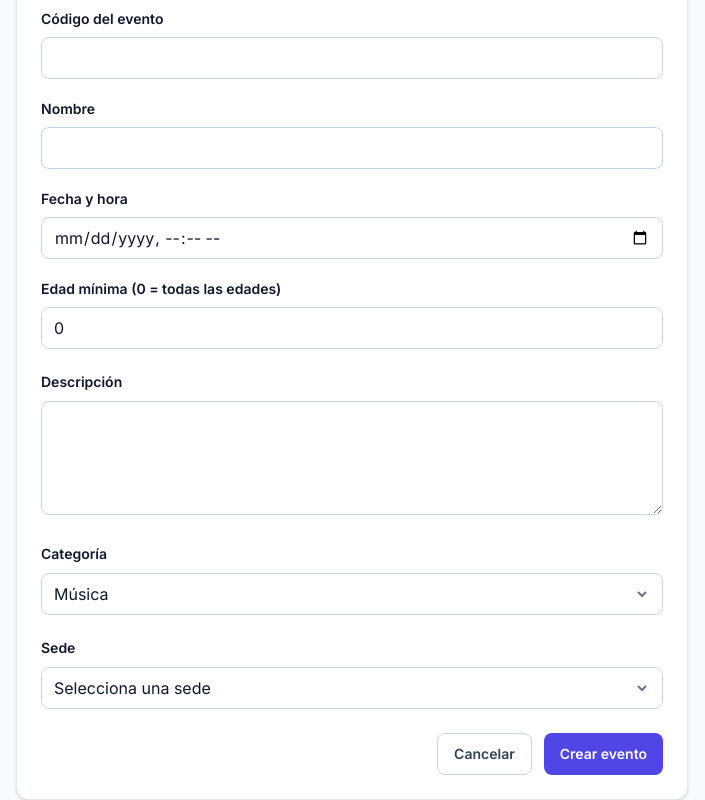
it: crear evento valida campos sin petición
(page scrolled)
Click the button "Crear evento". click: x=603, y=754
box: [544,733,663,775]
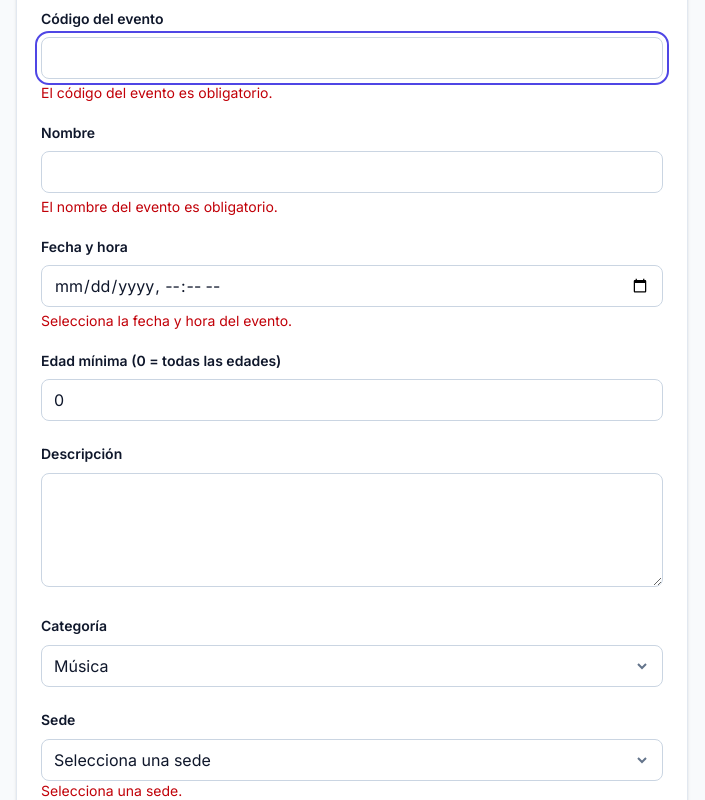
Expected: the text "El código del evento es obligatorio." is shown, [41,84,272,101]
